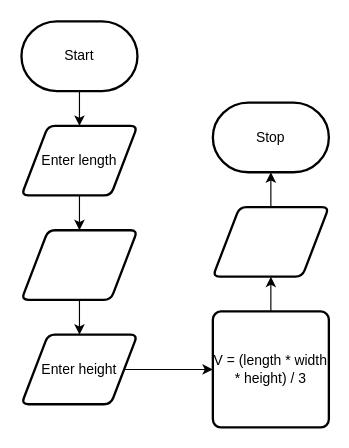
Image size: 349x448. Some labels were removed from this diagram. Each missing label, with the centre of its shape:
"Enter width" belongs at pixel 79 264.
"Show the volume of pyramid" belongs at pixel 270 241.
